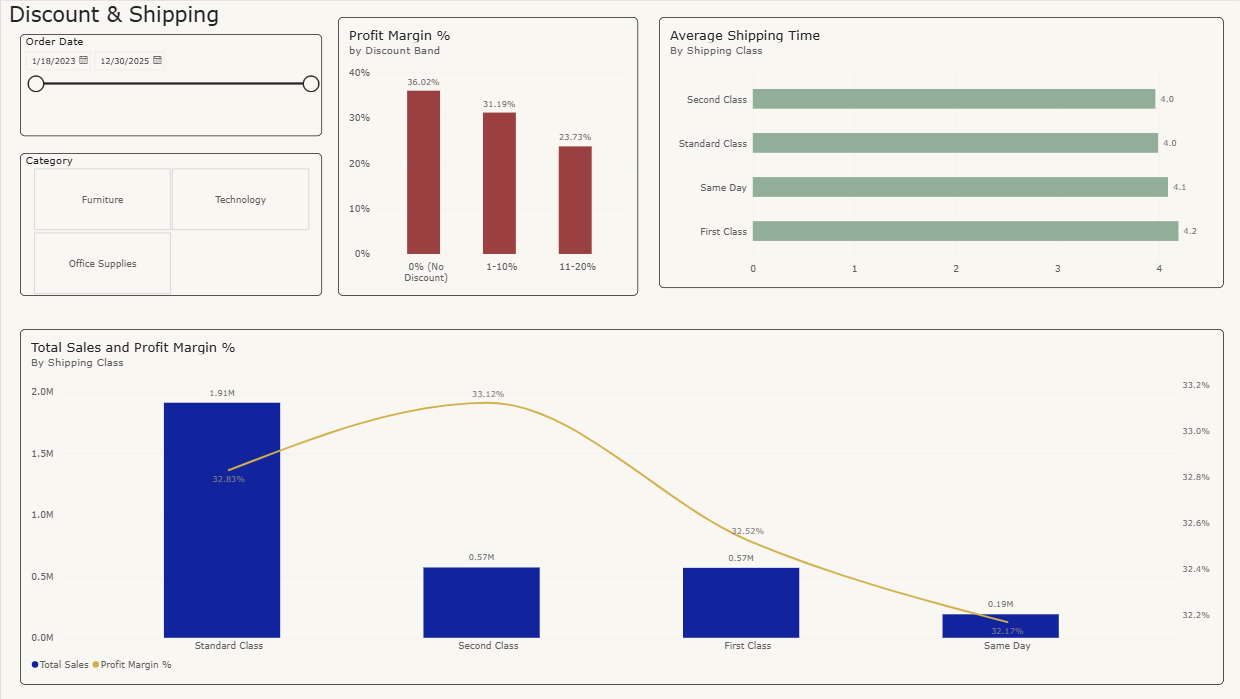

What the dashboard file says about the page in this screenshot:
{"tool":"powerbi","page":{"name":"Page 4","canvas":[1920,1080],"ordinal":3},"visuals":[{"type":"clusteredColumnChart","fields":{"Category":["orders.Discount Band"],"Y":["orders.Profit Margin %"]},"box":[521,24.7,463.8,431.3],"z":0},{"type":"textbox","box":[11.8,0,340.8,50.6],"z":1000},{"type":"clusteredBarChart","title":"Average Shipping Time","fields":{"Y":["orders.Avg Ship Days"],"Category":["orders.ship_mode"]},"box":[1017.2,24.7,873.4,418.9],"z":2000},{"type":"lineStackedColumnComboChart","title":"Total Sales and Profit Margin % ","fields":{"Category":["orders.ship_mode"],"Y2":["orders.Profit Margin %"],"Y":["orders.Total Sales"]},"box":[29.4,507.1,1861.3,550.3],"z":3000},{"type":"slicer","fields":{"Values":["orders.order_date"]},"box":[29.4,51,466.9,157.7],"z":4000},{"type":"slicer","fields":{"Values":["products.category"]},"box":[29.4,235,466.9,221.1],"z":5000}]}

Visuals, with their boxes in screenshot pixels (x1, y1, x2, y2), scaled from the page's 1920x1080 canvas onto the 1240x699 screenshot:
clusteredColumnChart - orders.Discount Band x orders.Profit Margin %: (336,16,636,295)
textbox: (8,0,228,33)
"Average Shipping Time" clusteredBarChart: (657,16,1221,287)
"Total Sales and Profit Margin % " lineStackedColumnComboChart: (19,328,1221,684)
slicer - orders.order_date: (19,33,321,135)
slicer - products.category: (19,152,321,295)
